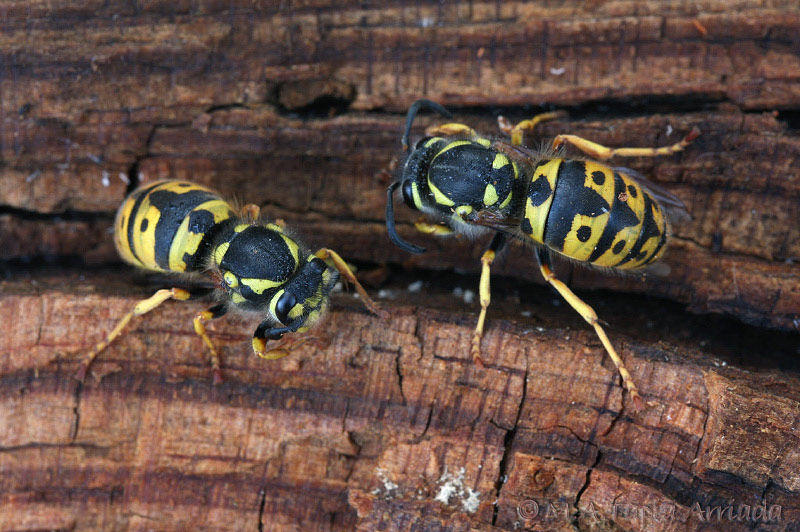chax: (341, 86, 716, 399), (72, 138, 373, 399)
